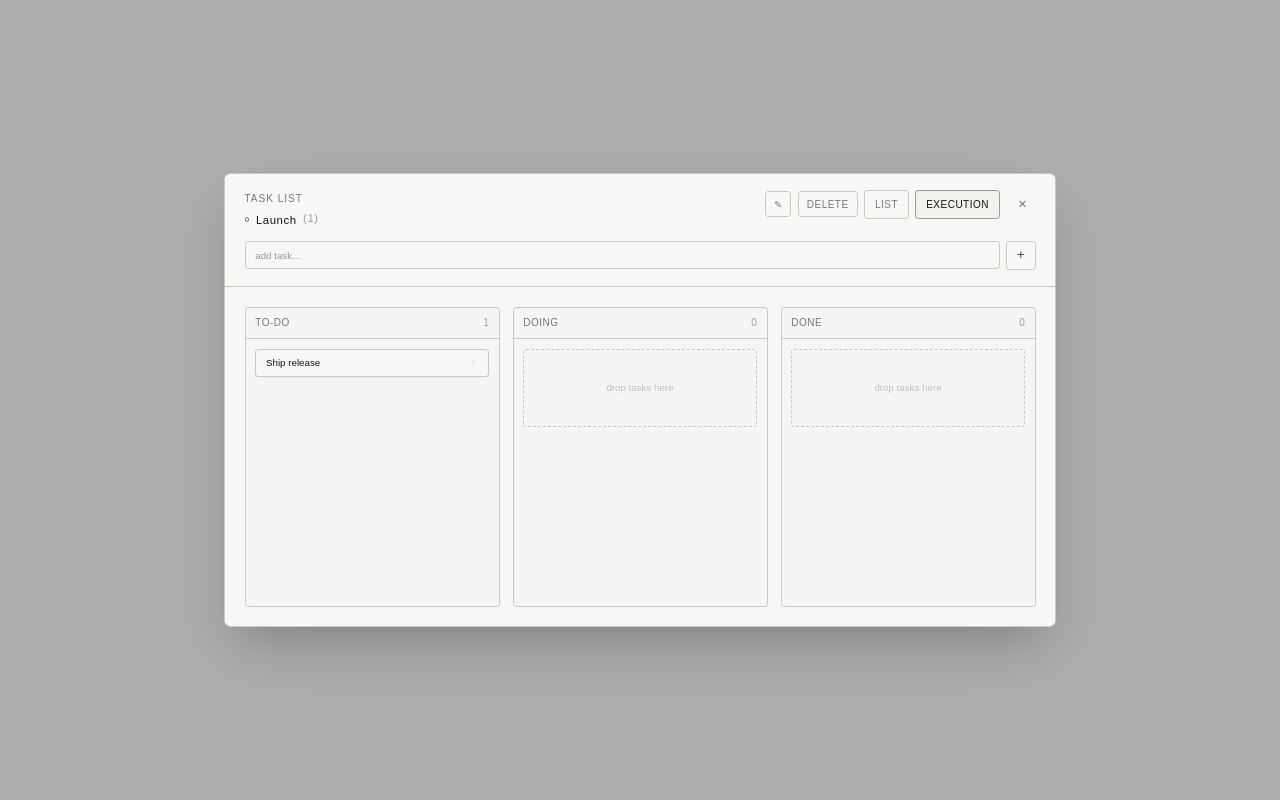
Test case: task overlay workflows › adds a task and renames its list
Type "Write notes" into the field with placeholder "add task...". click: (622, 256)
box: [244,242,1000,270]
Then press Enter
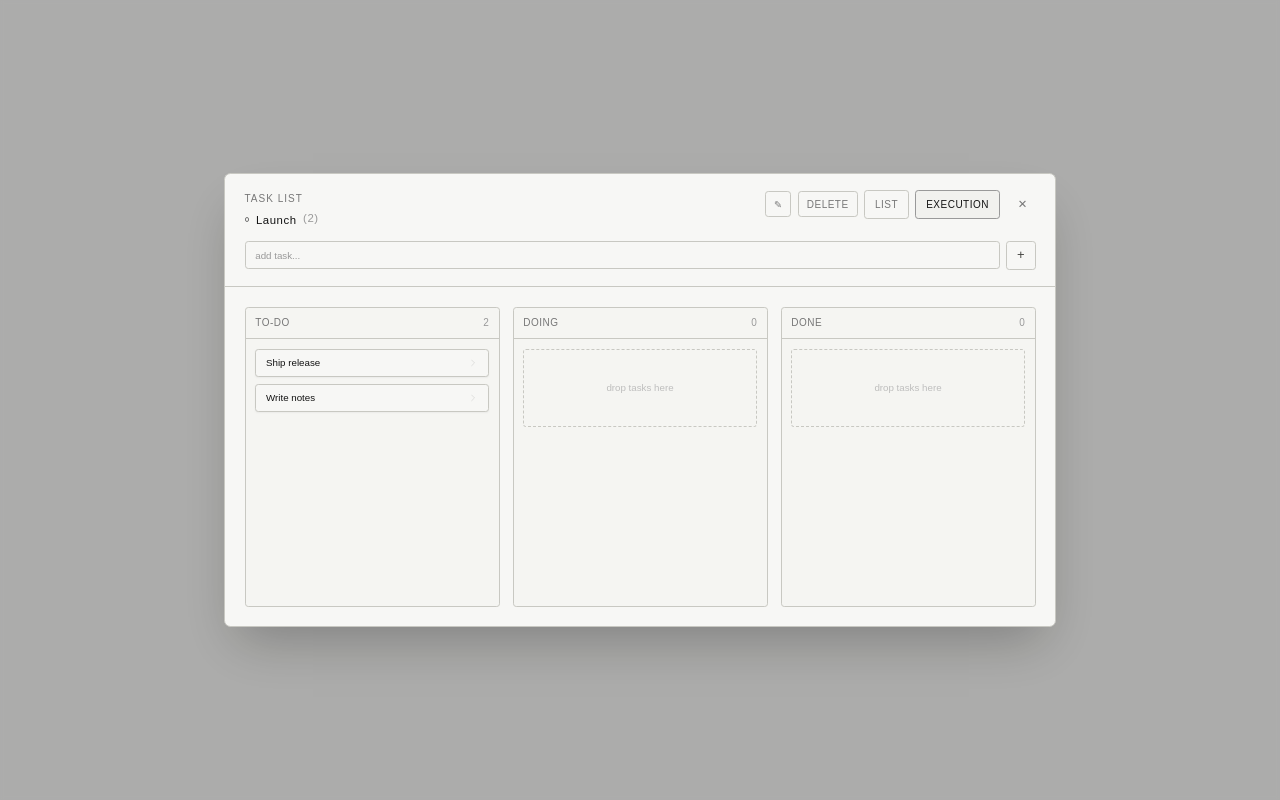
Click the button named "Rename task list". click: click(778, 204)
box: [765,191,791,217]
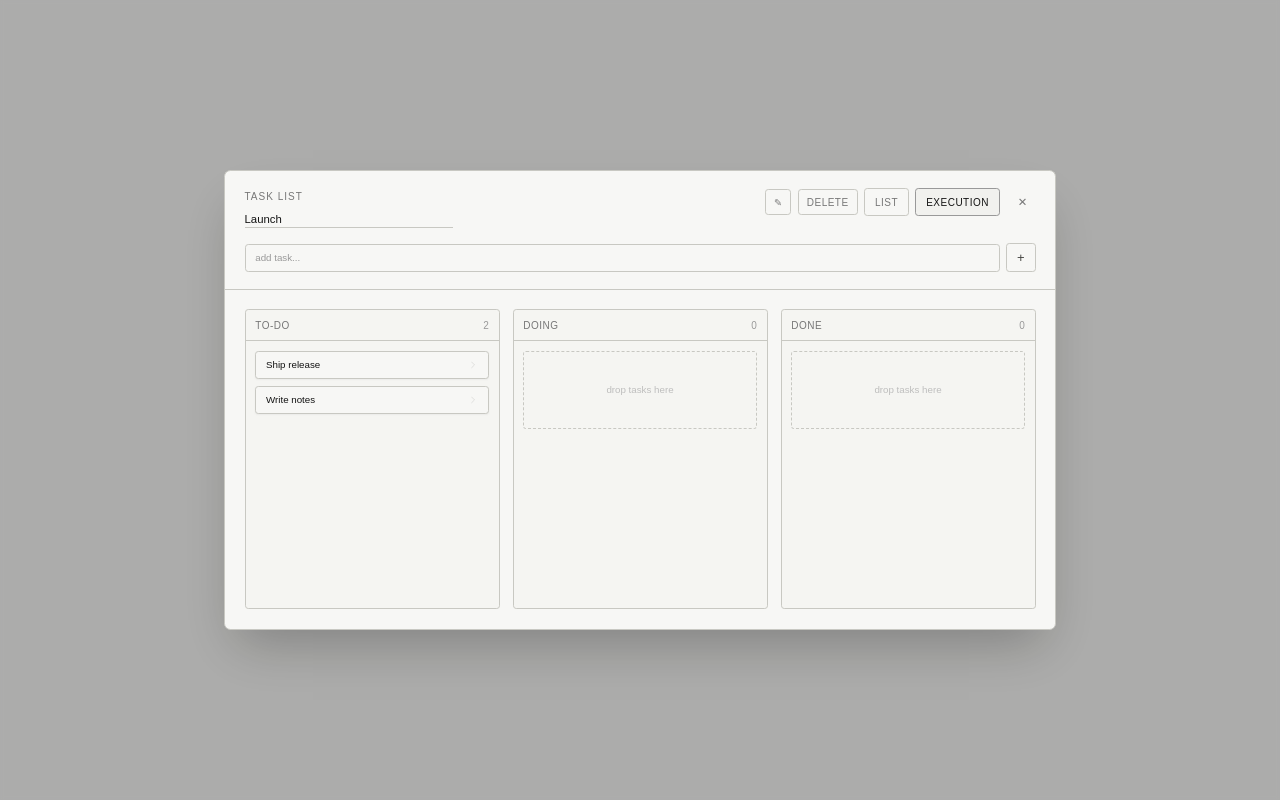
Replace the text in the field named "Task list name" with "Release". click: (348, 220)
box: [244,211,452,228]
Then press Enter
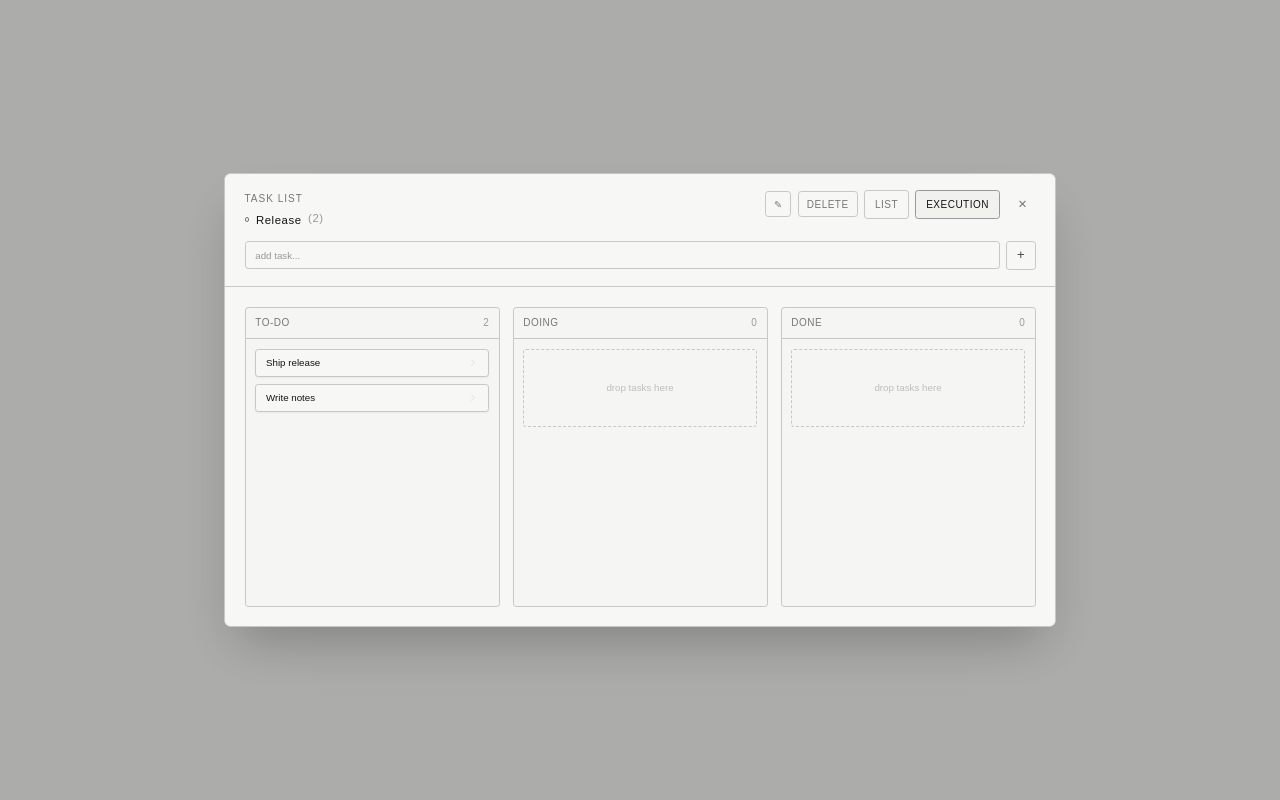
Check: the text "Release" is shown, box [256,212,302,228]
